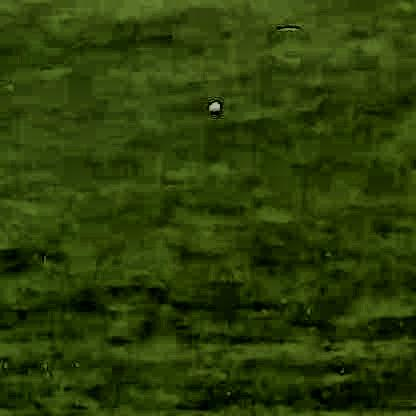golfball: (206, 98, 218, 112)
